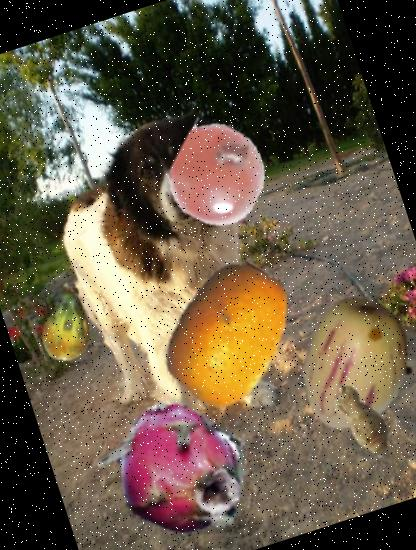Cactus: (14, 270, 116, 372)
Ginger: (310, 367, 414, 470)
Kumquats: (136, 242, 320, 426)
Pepino: (272, 278, 416, 446)
Pitahaya: (90, 379, 276, 550)
Redcurrant: (156, 112, 283, 238)
